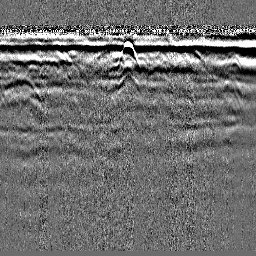cavity: (115, 39, 139, 70)
